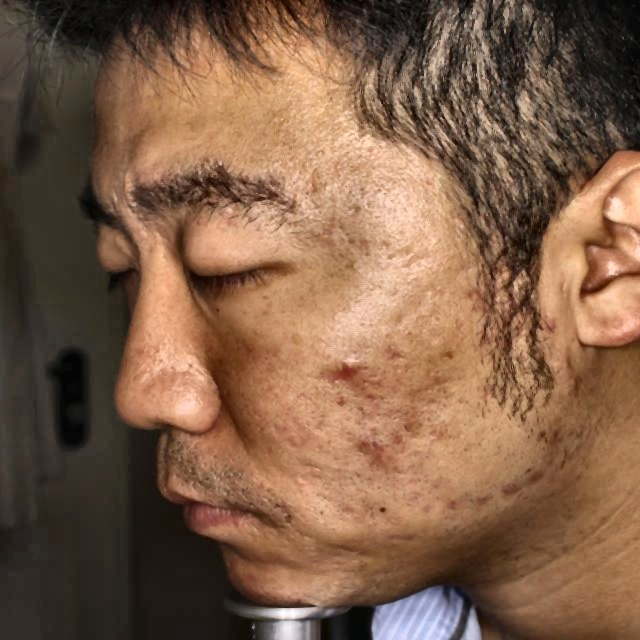pustule: (331, 354, 369, 390), (352, 445, 404, 471), (494, 469, 520, 512), (434, 495, 467, 519), (521, 472, 566, 488), (467, 488, 495, 512), (538, 316, 563, 334)
